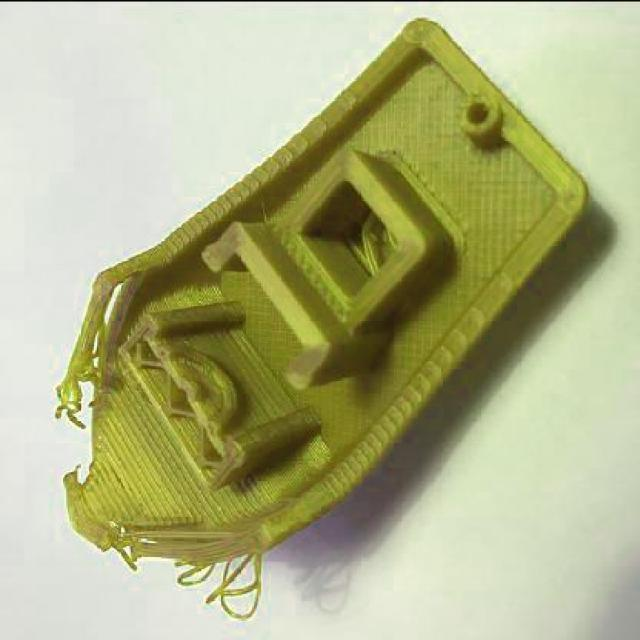spaghetti: (172, 543, 267, 625), (50, 342, 116, 435)
